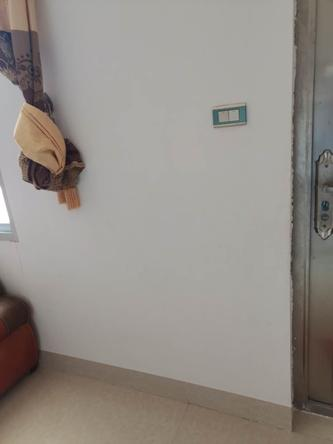switch: (228, 109, 240, 121), (218, 111, 229, 123)
